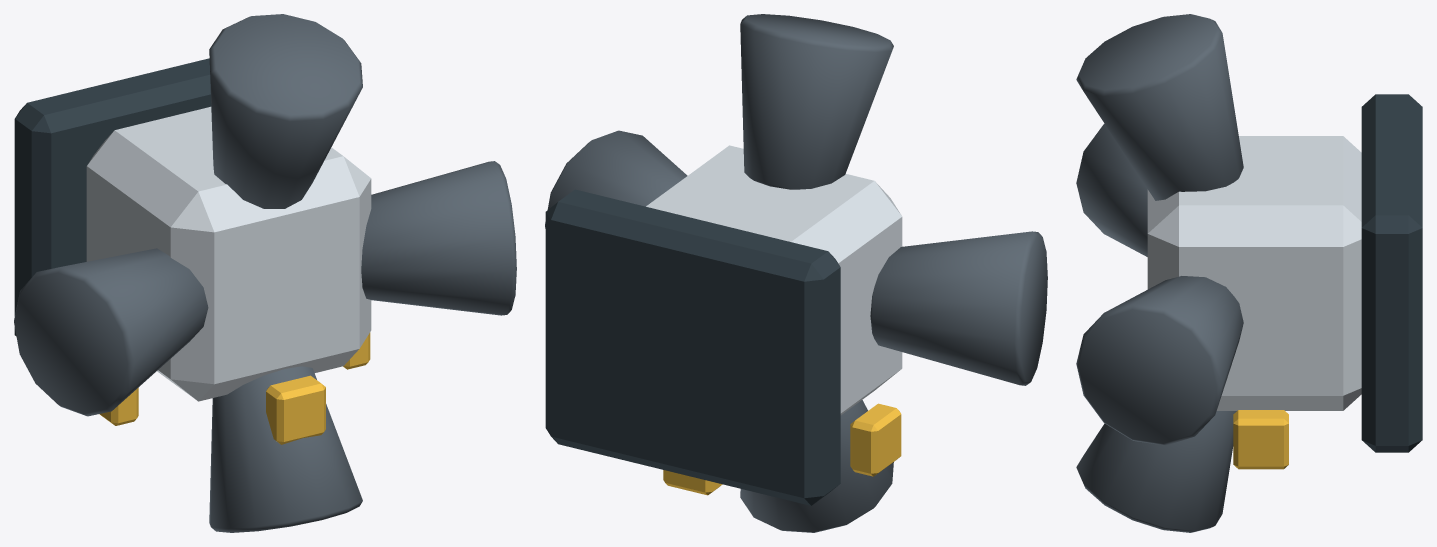
The model's file is perilune-quadjet-rcs.glb.
3 renders of one model, left to right at view 1: azimuth 30°, elevation 25°; view 2: azimuth 150°, elevation 25°; view 3: azimuth 270°, elevation 25°, orthographic. The views are drawn at different scales.
Visible parts, largest first — view 1: SM_RCS_Quadjet_Core, SM_RCS_Quadjet_Nozzle_03, SM_RCS_Quadjet_Nozzle_02, SM_RCS_Quadjet_Nozzle_01, SM_RCS_Quadjet_Backplate, SM_RCS_Quadjet_Nozzle_04, SM_RCS_Quadjet_Bolt_01, SM_RCS_Quadjet_Bolt_04; view 2: SM_RCS_Quadjet_Backplate, SM_RCS_Quadjet_Nozzle_02, SM_RCS_Quadjet_Nozzle_03, SM_RCS_Quadjet_Core, SM_RCS_Quadjet_Nozzle_01, SM_RCS_Quadjet_Nozzle_04, SM_RCS_Quadjet_Bolt_04, SM_RCS_Quadjet_Bolt_03; view 3: SM_RCS_Quadjet_Core, SM_RCS_Quadjet_Backplate, SM_RCS_Quadjet_Nozzle_03, SM_RCS_Quadjet_Nozzle_01, SM_RCS_Quadjet_Nozzle_04, SM_RCS_Quadjet_Nozzle_02, SM_RCS_Quadjet_Bolt_02.
Boxes of the visible parts, x1,y1,x2,y2 form: SM_RCS_Quadjet_Core: (86,106,371,401); SM_RCS_Quadjet_Nozzle_03: (209,14,362,208); SM_RCS_Quadjet_Nozzle_02: (14,248,208,416); SM_RCS_Quadjet_Nozzle_01: (361,161,516,315); SM_RCS_Quadjet_Backplate: (14,58,211,336); SM_RCS_Quadjet_Nozzle_04: (209,366,362,532); SM_RCS_Quadjet_Bolt_01: (266,375,325,444); SM_RCS_Quadjet_Bolt_04: (99,387,138,425); SM_RCS_Quadjet_Backplate: (545,189,840,505); SM_RCS_Quadjet_Nozzle_02: (870,231,1047,385); SM_RCS_Quadjet_Nozzle_03: (740,14,893,189); SM_RCS_Quadjet_Core: (646,145,902,415); SM_RCS_Quadjet_Nozzle_01: (545,130,687,228); SM_RCS_Quadjet_Nozzle_04: (740,400,893,532); SM_RCS_Quadjet_Bolt_04: (850,403,901,476); SM_RCS_Quadjet_Bolt_03: (663,470,722,495); SM_RCS_Quadjet_Core: (1147,136,1361,410); SM_RCS_Quadjet_Backplate: (1361,94,1422,452); SM_RCS_Quadjet_Nozzle_03: (1076,14,1243,200); SM_RCS_Quadjet_Nozzle_01: (1076,276,1243,445); SM_RCS_Quadjet_Nozzle_04: (1076,411,1236,532); SM_RCS_Quadjet_Nozzle_02: (1076,124,1147,256); SM_RCS_Quadjet_Bolt_02: (1233,410,1288,469).
Bounding box in the file's own units: 0.3079 × 0.3079 × 0.1984.
